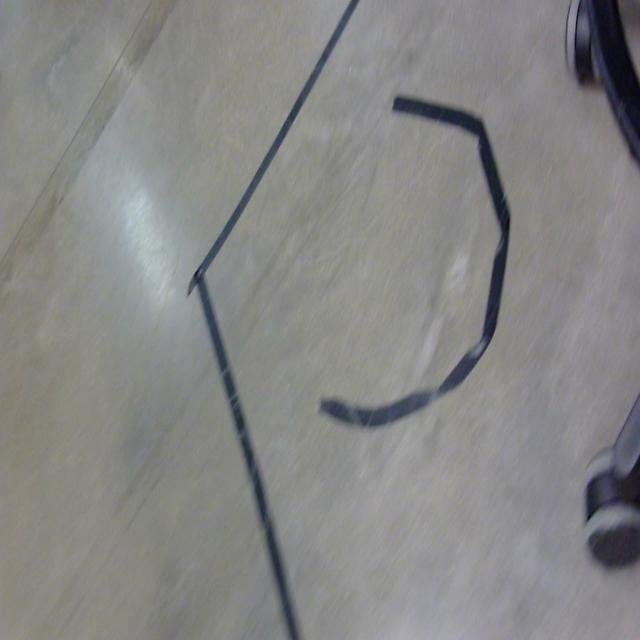tape: (170, 0, 380, 640), (299, 81, 522, 452)
